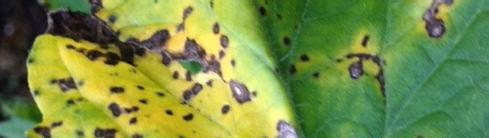Tomato Septoria leaf spot: (13, 0, 489, 138)
